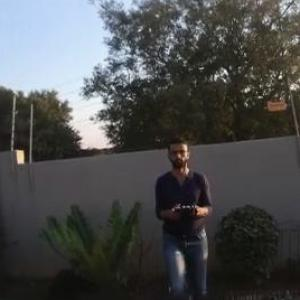follow: (151, 129, 217, 299)
